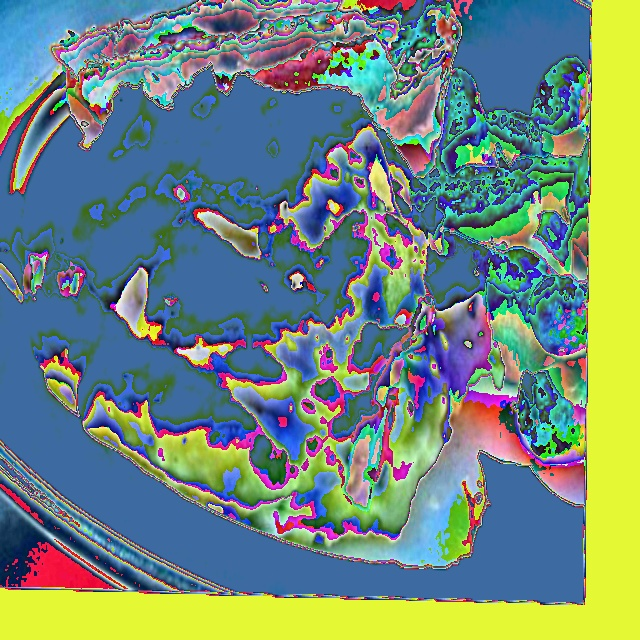background: (0, 0, 590, 547)
